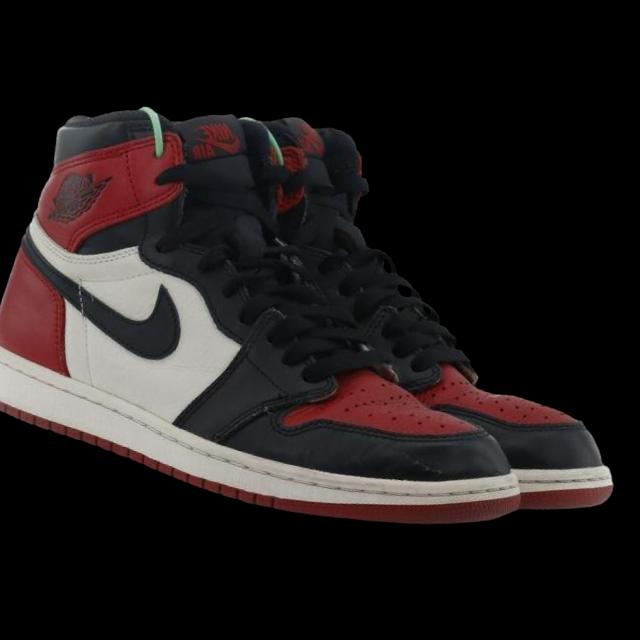nike_original_jordan: (0, 76, 585, 559), (162, 100, 640, 528)
